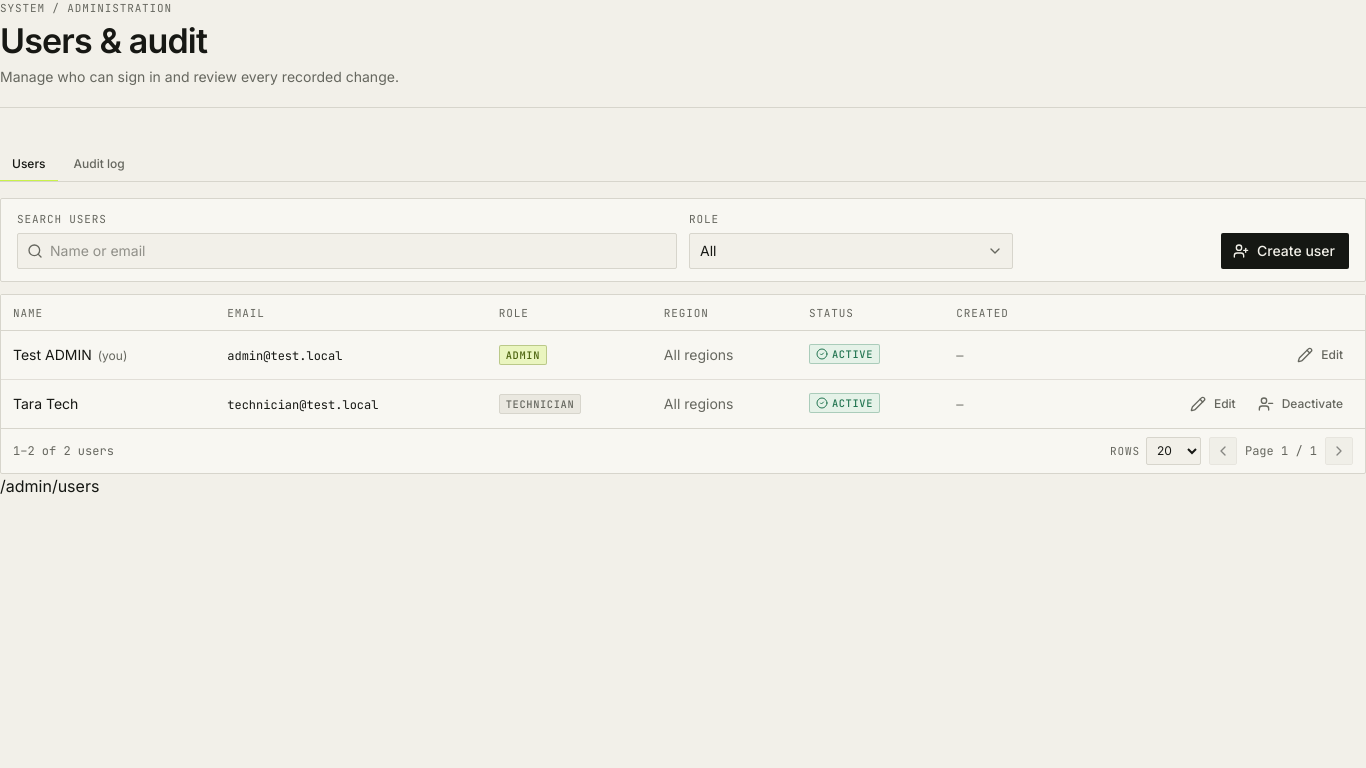
Test: AdminUsersPage › validates the create-user form on the client
Expected: the text "Tara Tech" is shown, [13,394,78,412]
Click the button "Create user" at (1285, 250), box [1221,232,1349,268]
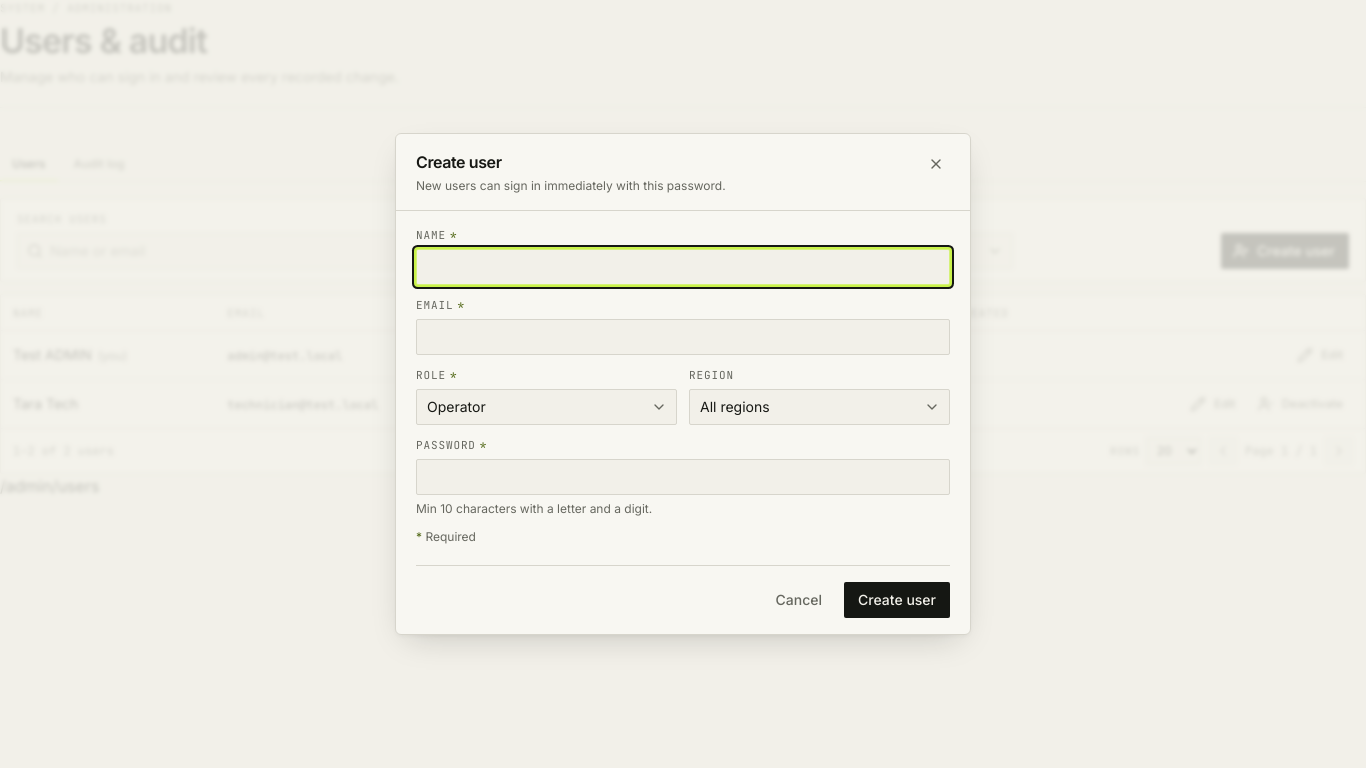
Type "not-an-email" into the field labelled "Email*" at (683, 337), box [416,319,950,355]
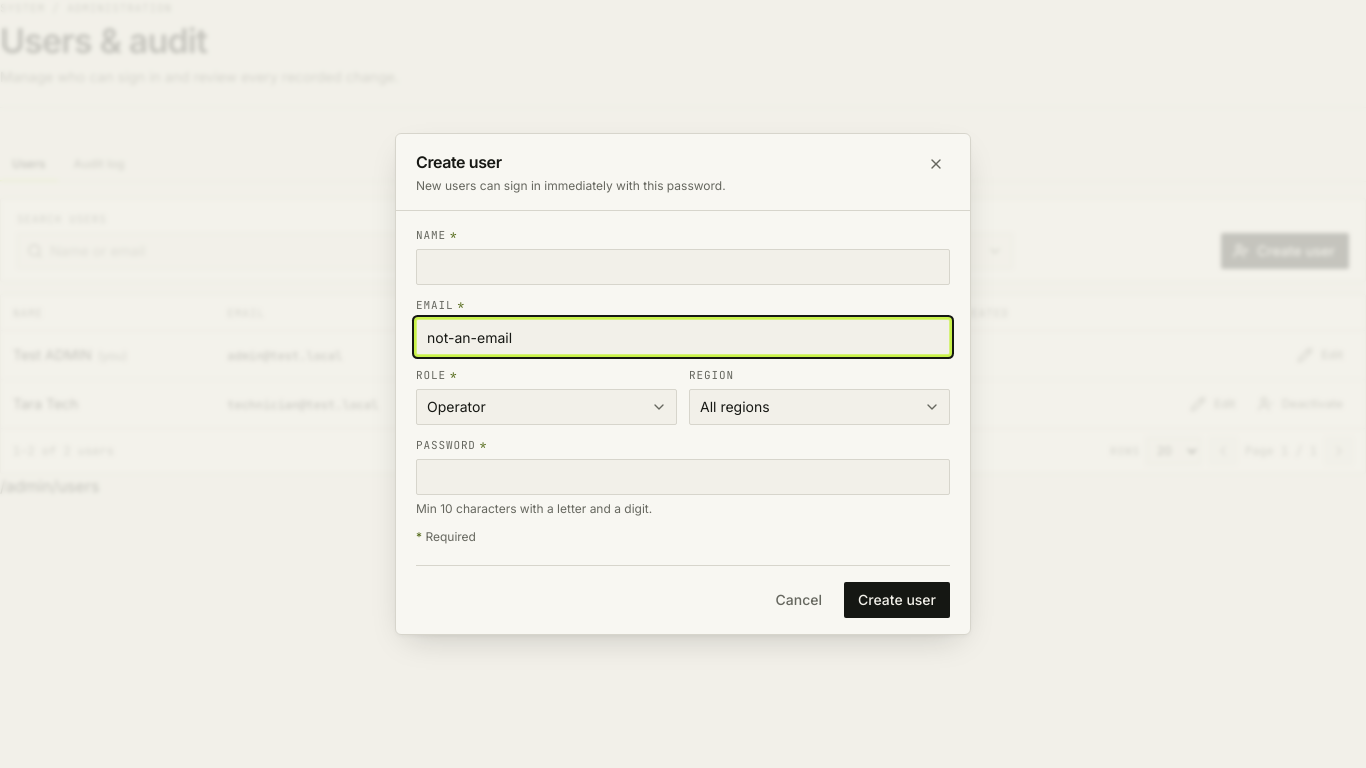
Type "abcdefghij" into the password field labelled "Password*" at (683, 477), box [416,459,950,495]
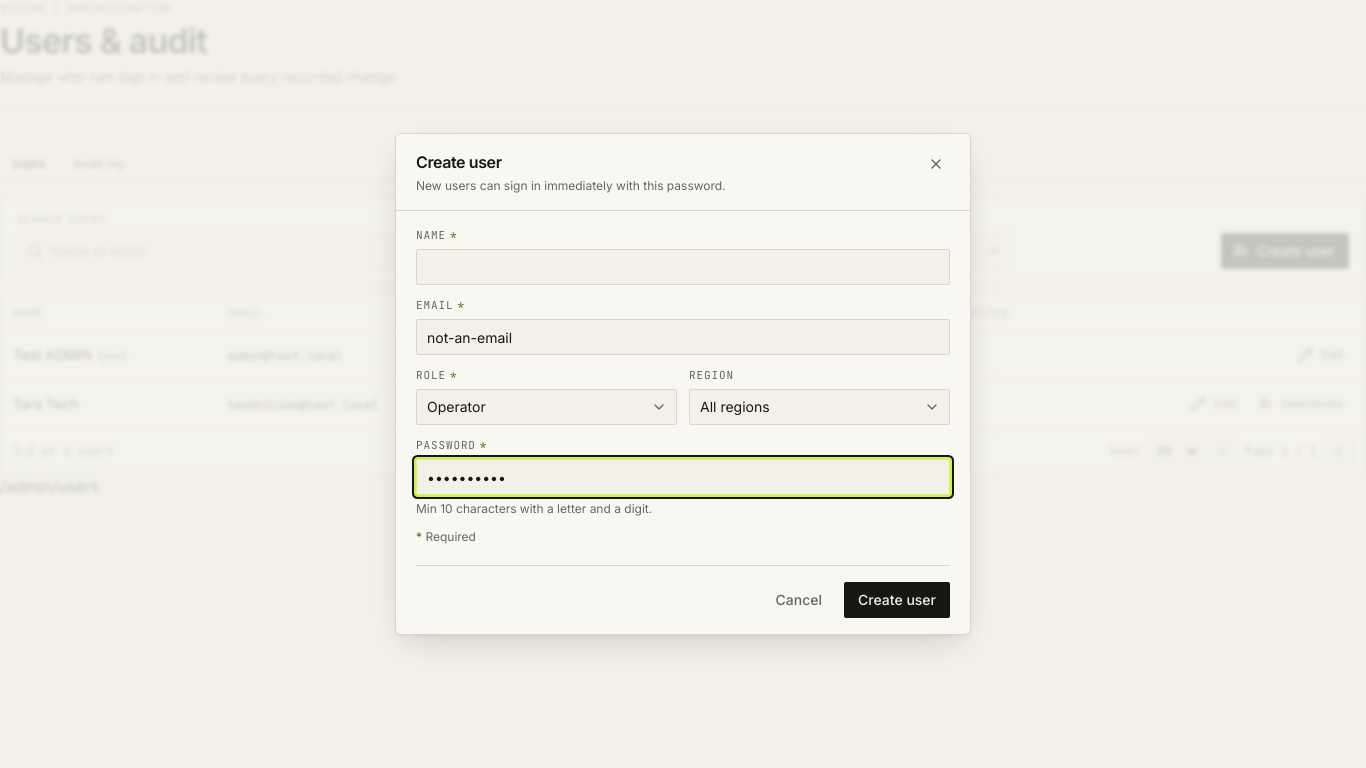
Click the button "Create user" at (897, 600), box [844,582,950,618]
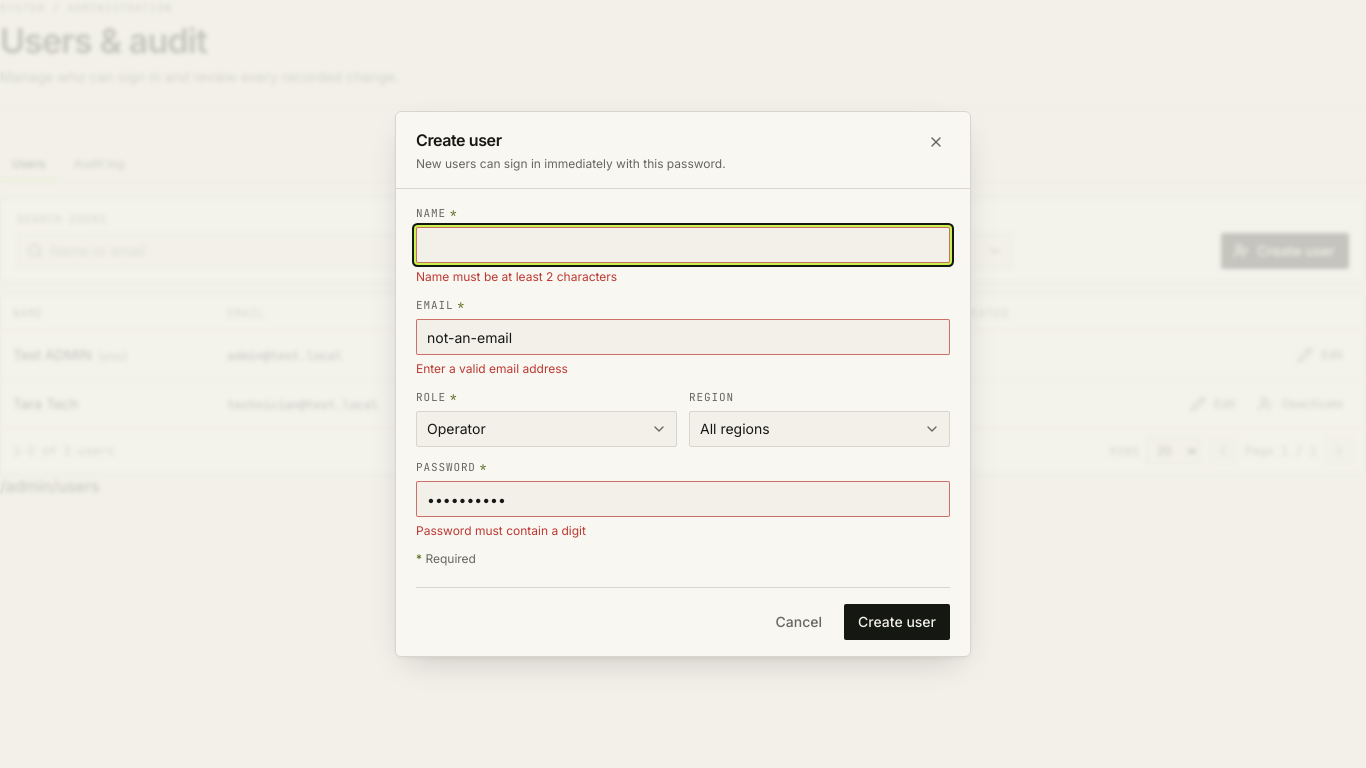
Now the text "Name must be at least 2 characters" is shown, box [416,269,617,284]
Now the text "Enter a valid email address" is shown, box [416,361,568,376]
Now the text "Password must contain a digit" is shown, box [416,523,586,538]
